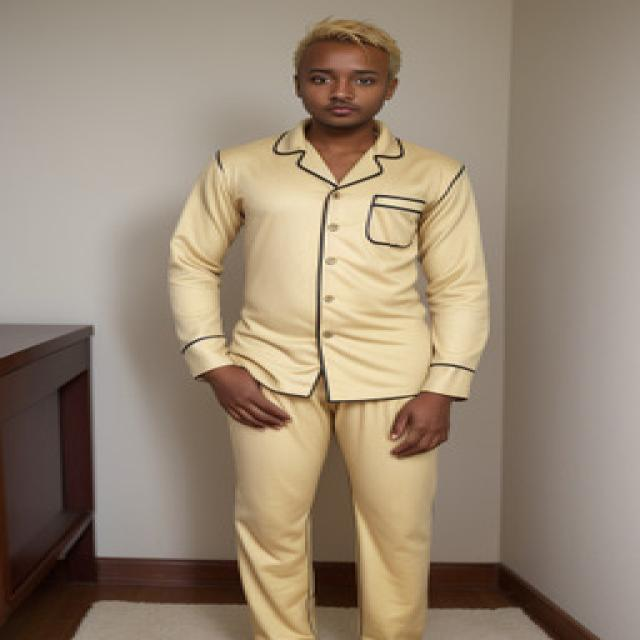Ai human 2: (160, 8, 567, 640)
